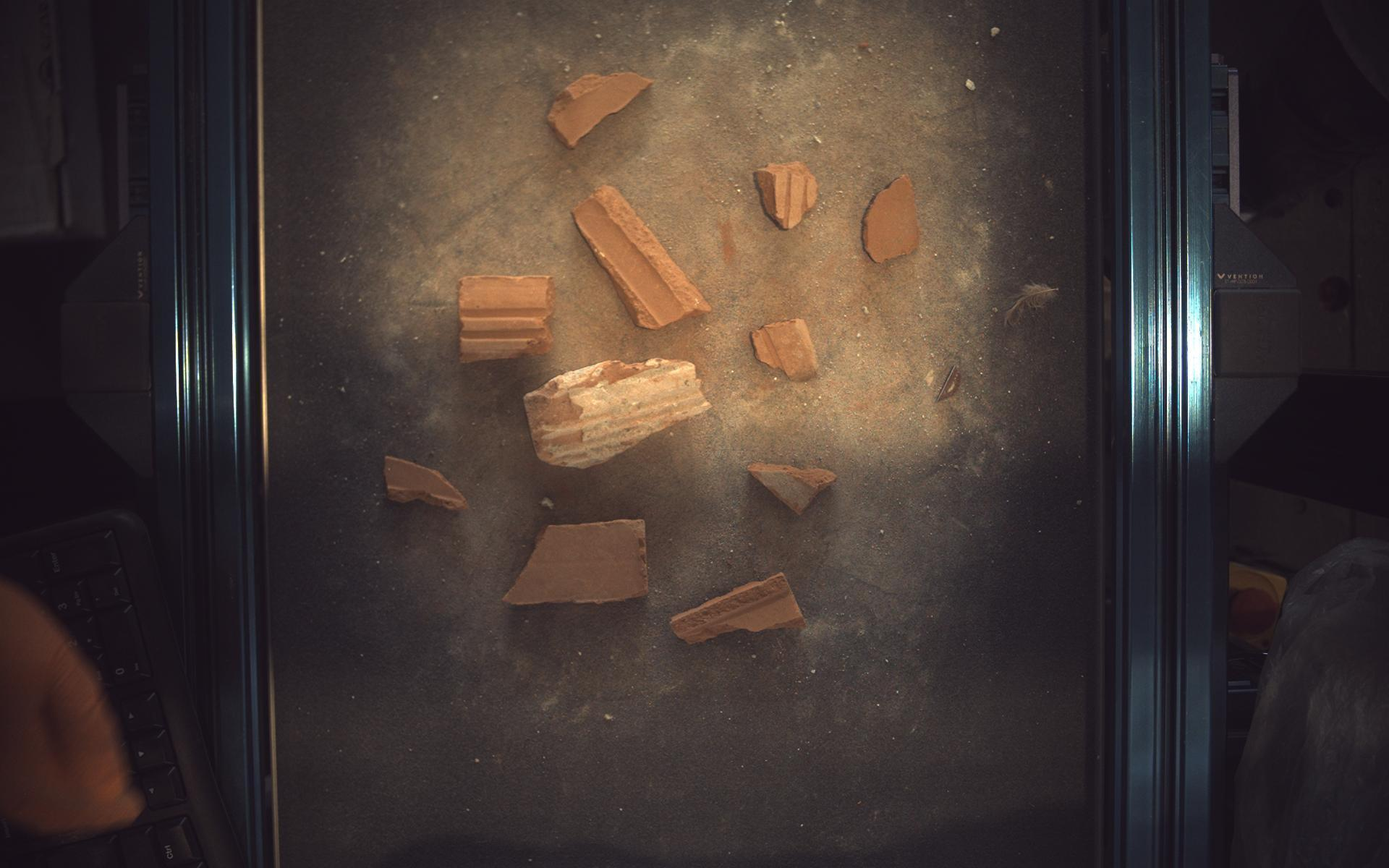brick: (524, 358, 711, 469), (574, 184, 713, 329), (503, 520, 649, 605), (671, 574, 807, 644), (458, 275, 554, 363), (548, 71, 653, 148), (865, 174, 922, 262), (749, 463, 838, 515), (384, 456, 468, 511), (756, 161, 820, 229), (753, 319, 820, 381)
